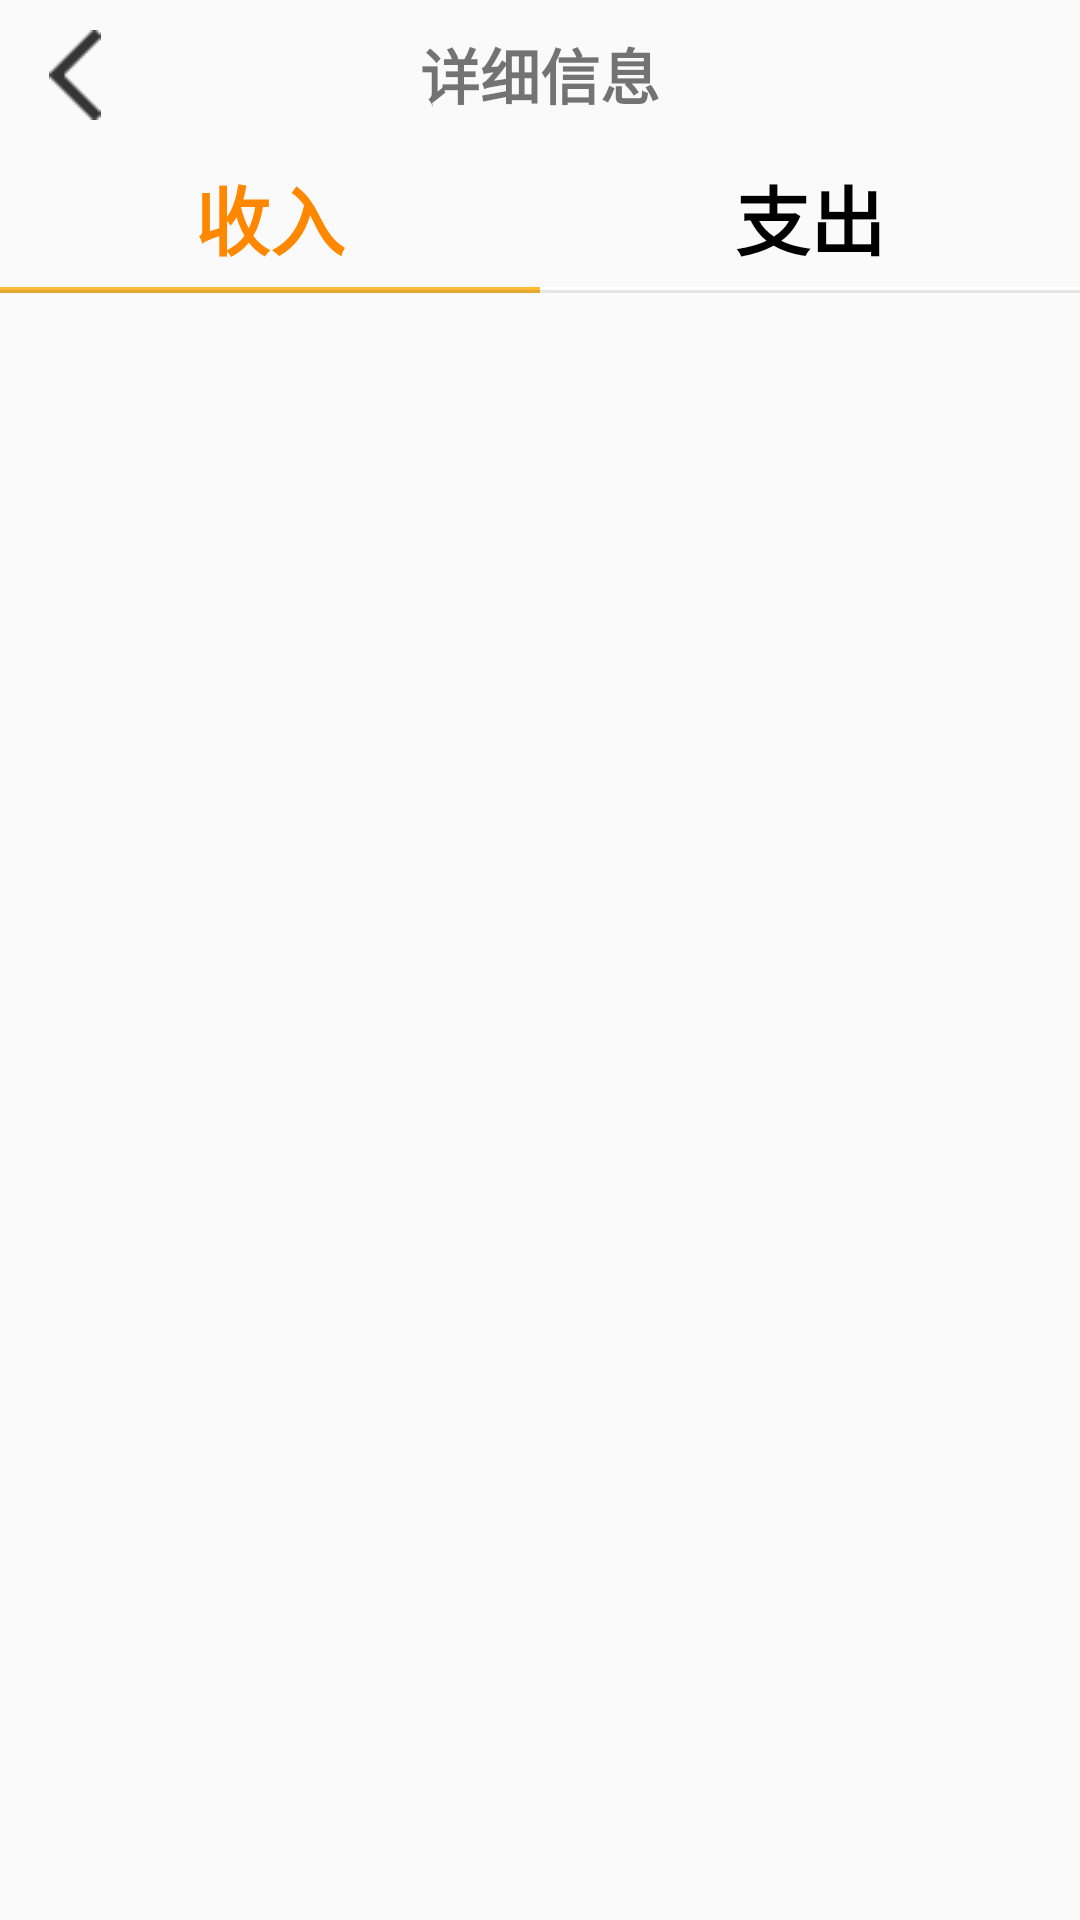

Locate icon controls on the screen. Image size 1080*1920, boxes as (x1, y1, x2, y2).
back: (49, 30, 101, 120)
